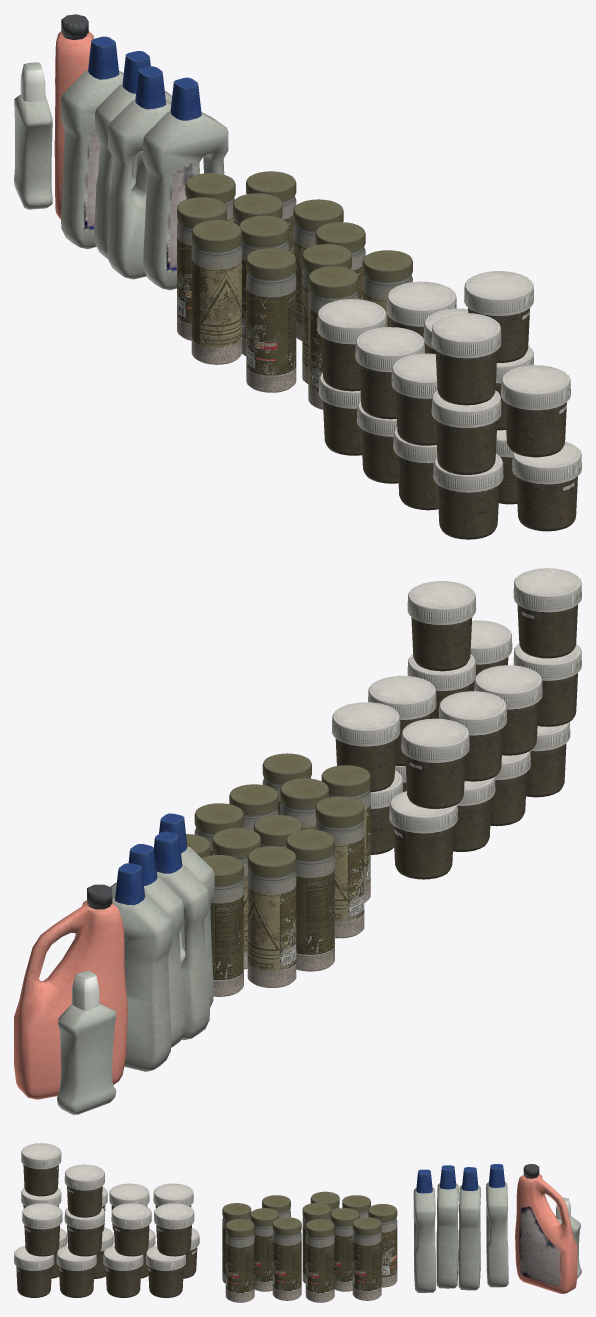
The model's file is sm39_024_seasoning01a.fbx.
The picture shows the model from 3 angles, top to bottom: view 1: azimuth 30°, elevation 25°; view 2: azimuth 150°, elevation 25°; view 3: azimuth 270°, elevation 25°; orthographic projection. The views are drawn at different scales.
Visible parts, largest first — view 1: LOD_1_Group_0_Sub_1__sm36_025_Seasoning01A_A_Mat, LOD_1_Group_0_Sub_2__sm36_018_WashingMaterial01A_A_Mat; view 2: LOD_1_Group_0_Sub_1__sm36_025_Seasoning01A_A_Mat, LOD_1_Group_0_Sub_2__sm36_018_WashingMaterial01A_A_Mat; view 3: LOD_1_Group_0_Sub_1__sm36_025_Seasoning01A_A_Mat, LOD_1_Group_0_Sub_2__sm36_018_WashingMaterial01A_A_Mat.
Boxes of the visible parts, x1,y1,x2,y2 form: LOD_1_Group_0_Sub_1__sm36_025_Seasoning01A_A_Mat: (177,171,581,539); LOD_1_Group_0_Sub_2__sm36_018_WashingMaterial01A_A_Mat: (14,14,228,290); LOD_1_Group_0_Sub_1__sm36_025_Seasoning01A_A_Mat: (186,568,581,996); LOD_1_Group_0_Sub_2__sm36_018_WashingMaterial01A_A_Mat: (14,813,214,1114); LOD_1_Group_0_Sub_1__sm36_025_Seasoning01A_A_Mat: (14,1143,397,1302); LOD_1_Group_0_Sub_2__sm36_018_WashingMaterial01A_A_Mat: (413,1164,581,1293).
Size of the model in its own units: 0.2108 by 0.2885 by 1.23.
